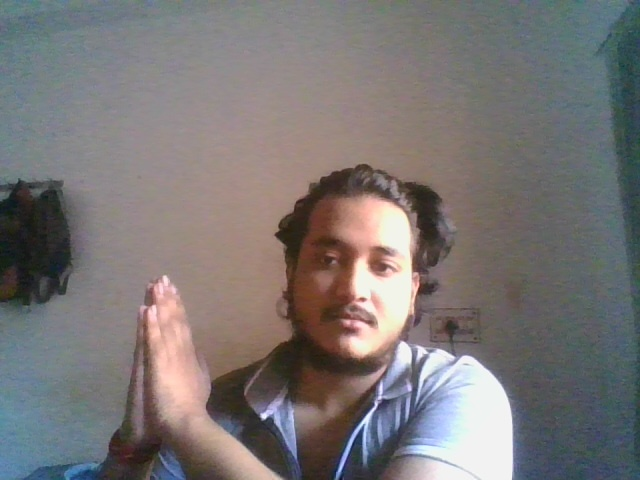ThankYou: (126, 275, 213, 448)
